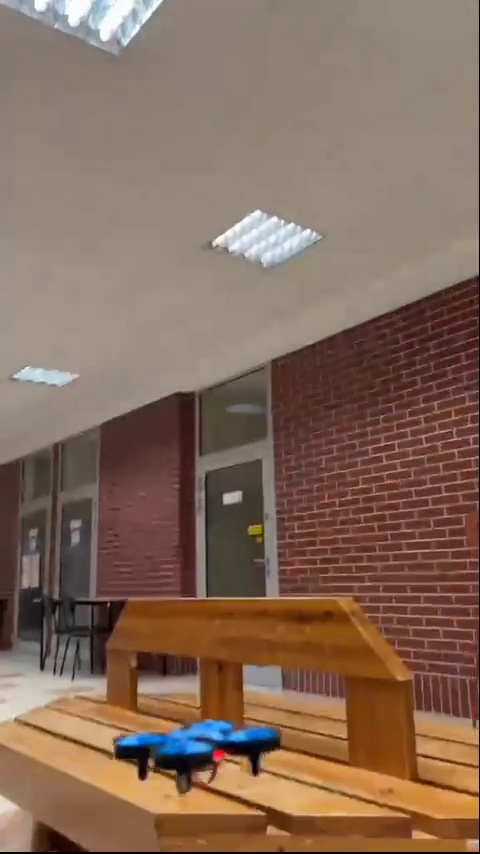drone: (119, 718, 282, 784)
